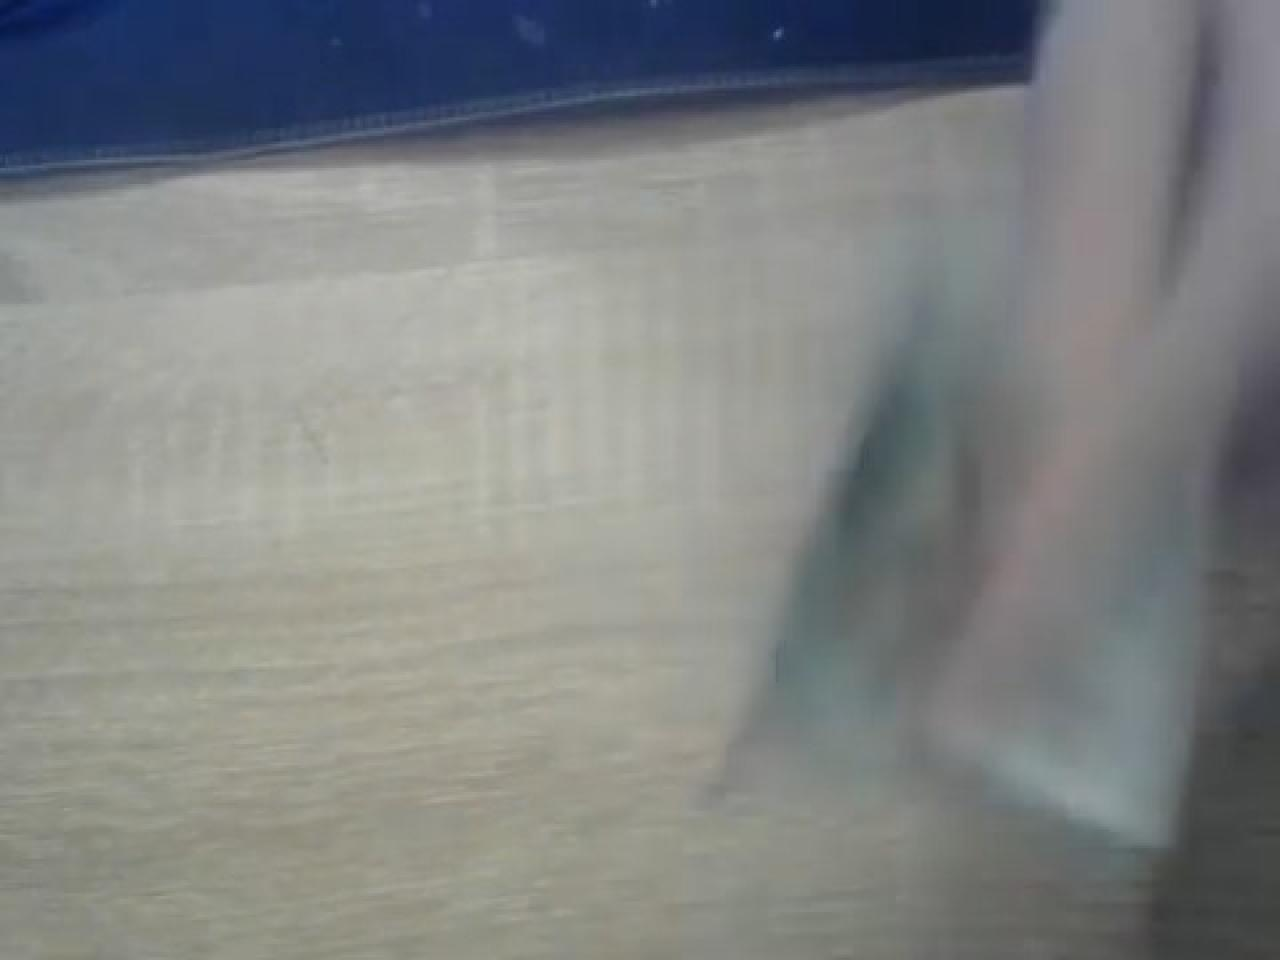10leva: (3, 0, 1280, 957)
